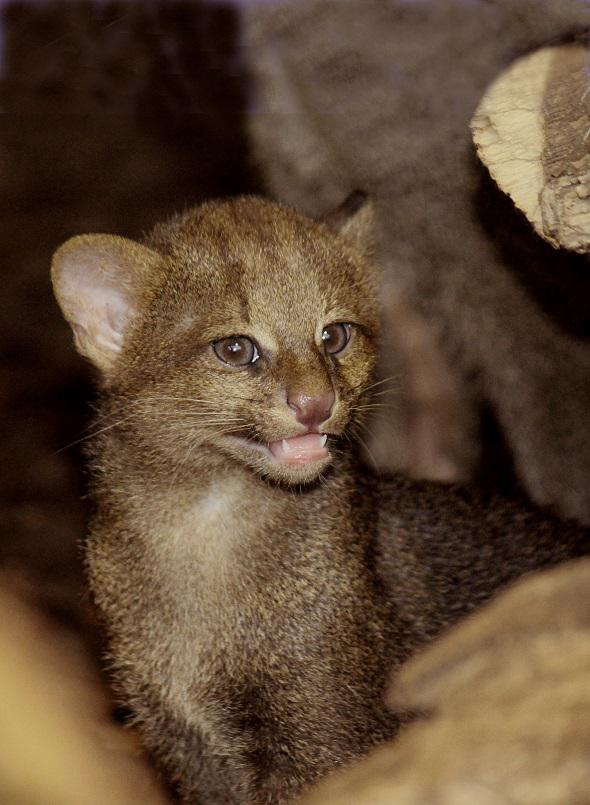Jaguarundi: (32, 176, 558, 748)
